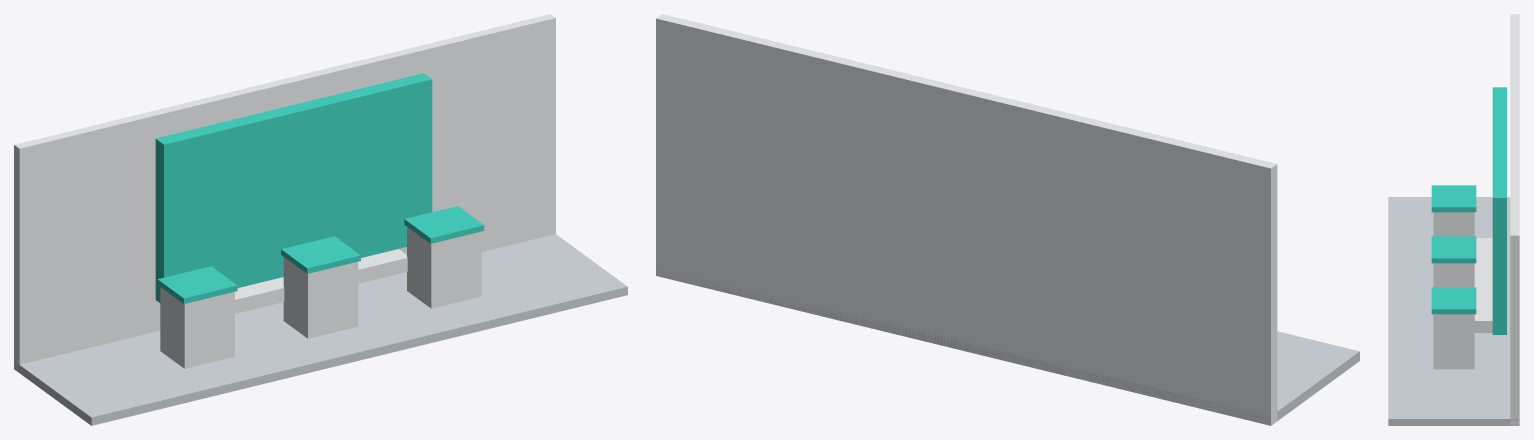
3 renders of one model, left to right at view 1: azimuth 30°, elevation 25°; view 2: azimuth 150°, elevation 25°; view 3: azimuth 270°, elevation 25°, orthographic. The views are drawn at different scales.
Parts seen in each view (by area): view 1: Exhibition Booth Concept; view 2: Exhibition Booth Concept; view 3: Exhibition Booth Concept.
Part boxes in pixels (<box>): Exhibition Booth Concept: <box>14,14,627,425</box>; Exhibition Booth Concept: <box>656,14,1359,425</box>; Exhibition Booth Concept: <box>1388,14,1519,425</box>.
Bounding box in the file's own units: 8 × 3.2 × 2.
